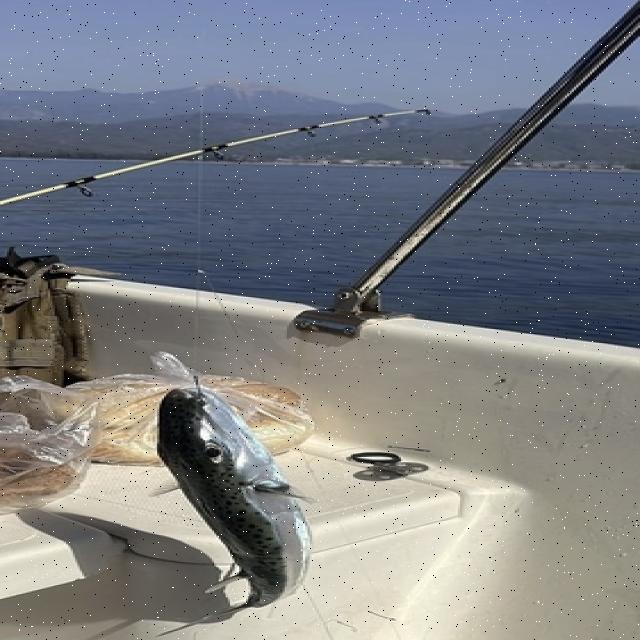Balik: (158, 387, 309, 613)
